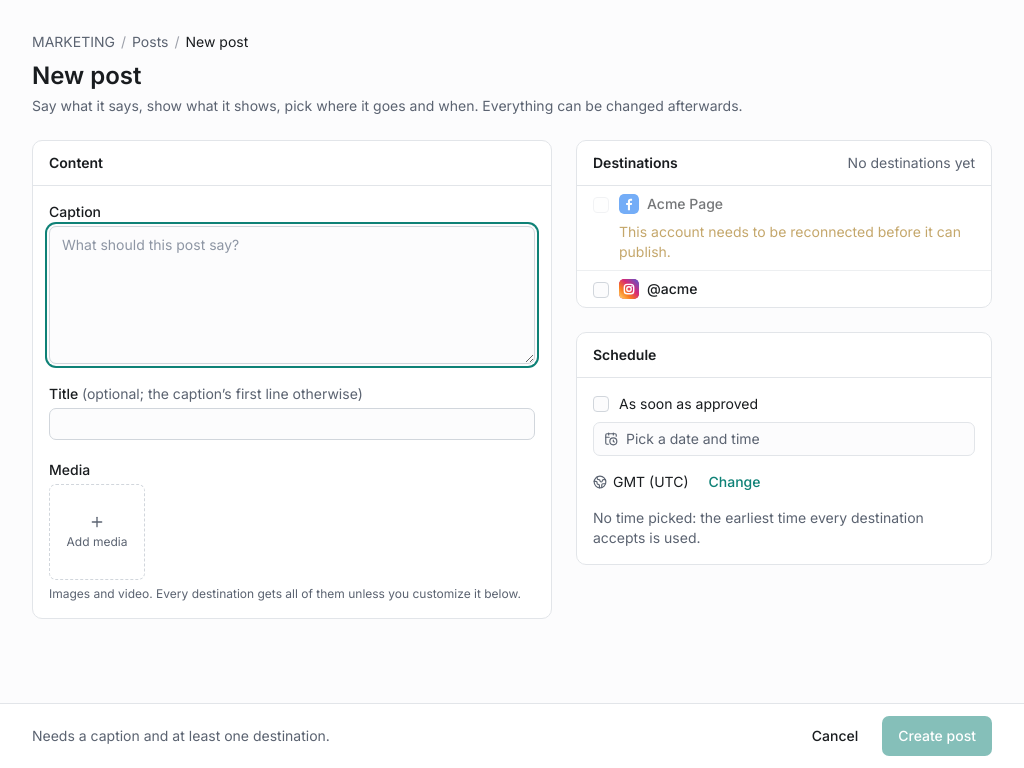
Test case: ComposePostPage › starting from a Creative › flags a destination the Creative has no size for
Click the button "Add media" at (97, 532), box x1=49 y1=484 x2=145 y2=580
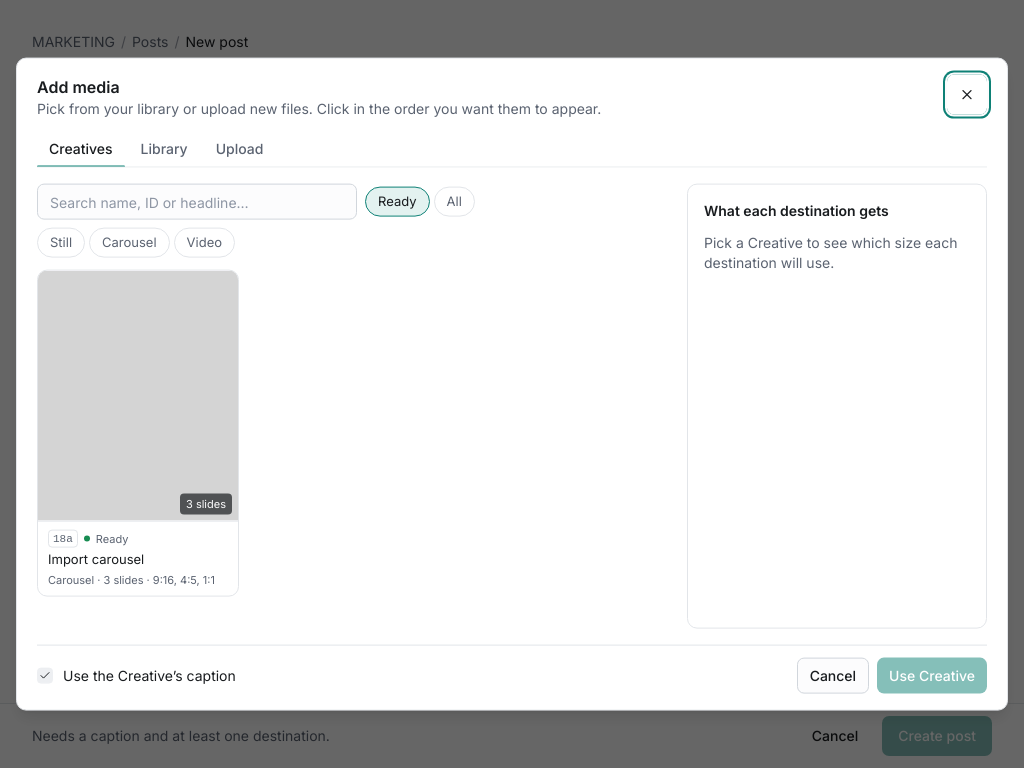
Click the button with aria-label "Choose Creative 18a" at (138, 433), box x1=37 y1=269 x2=239 y2=597
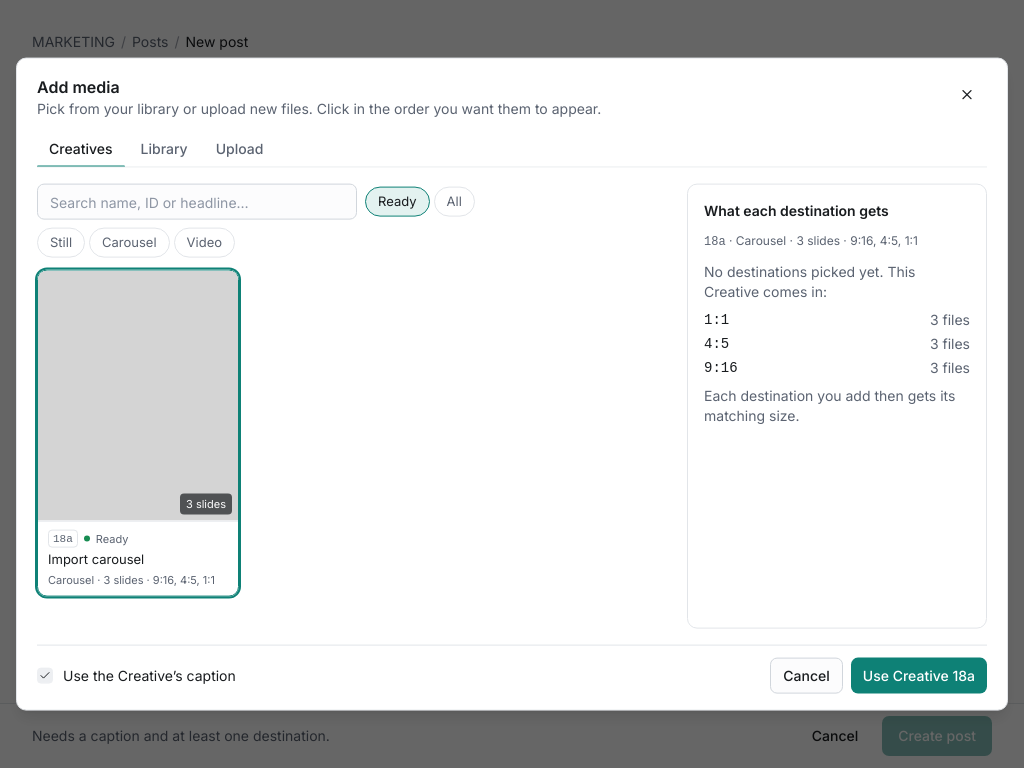
Click the button "Use Creative 18a" at (919, 675), box x1=851 y1=657 x2=987 y2=693
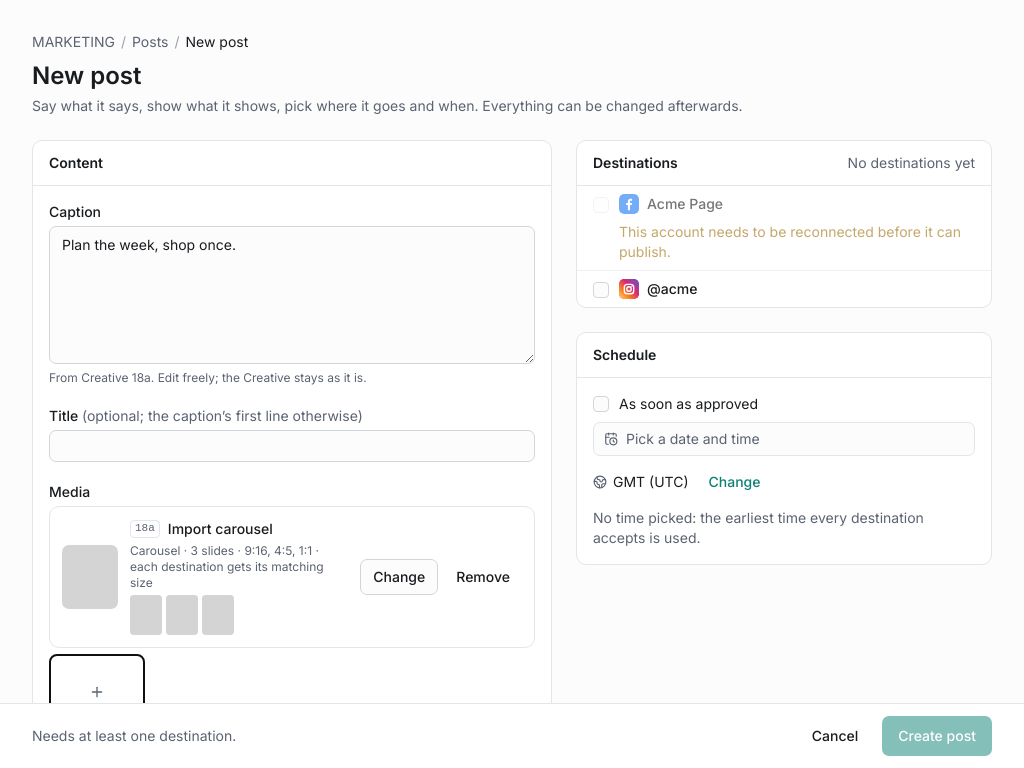
Click the checkbox labelled "@acme" at (601, 290), box x1=593 y1=282 x2=609 y2=298
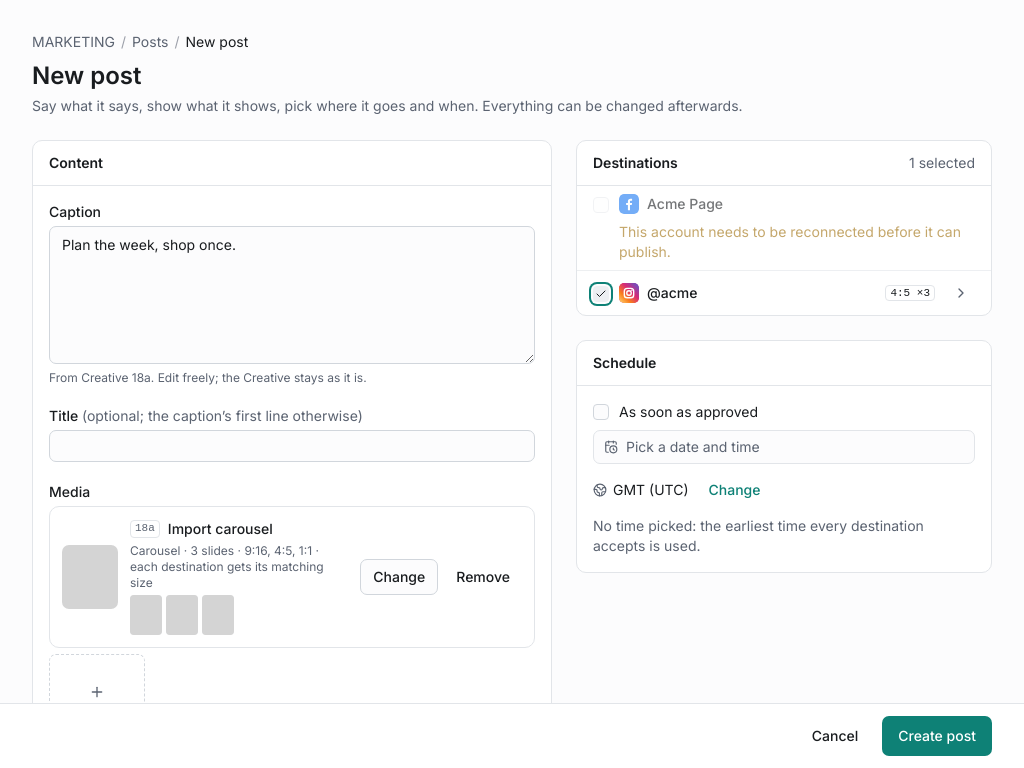
Click the button named "Show details" at (961, 293), box x1=947 y1=279 x2=975 y2=307
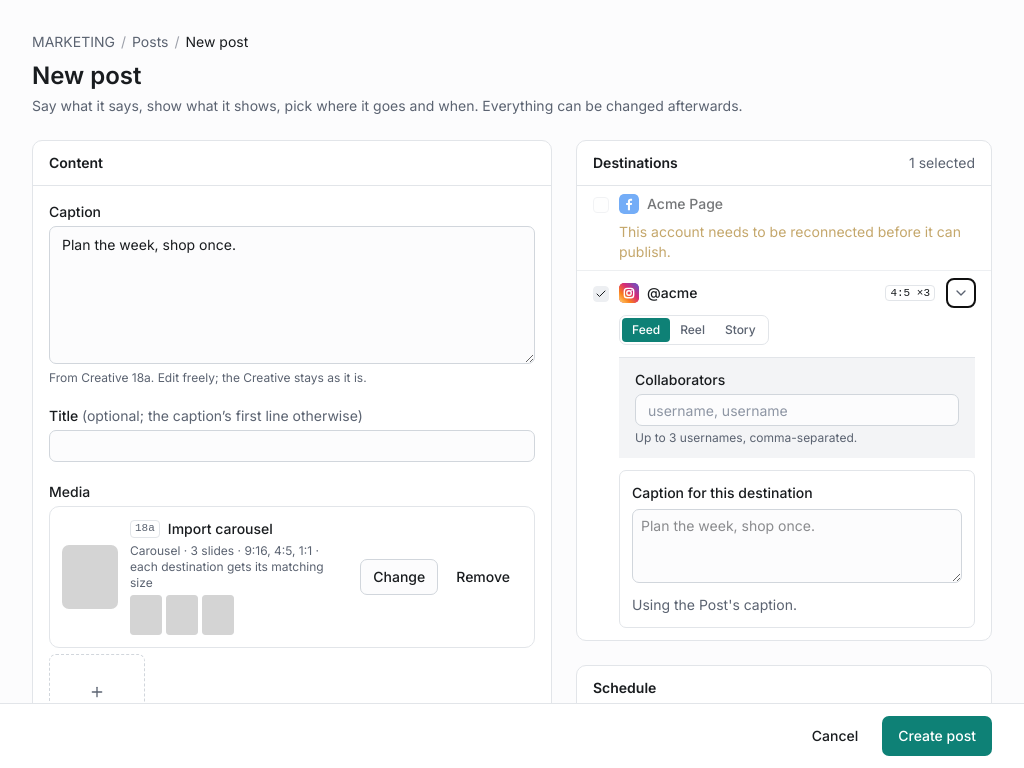
Click the radio button labelled "Reel" at (693, 330), box x1=670 y1=318 x2=715 y2=342
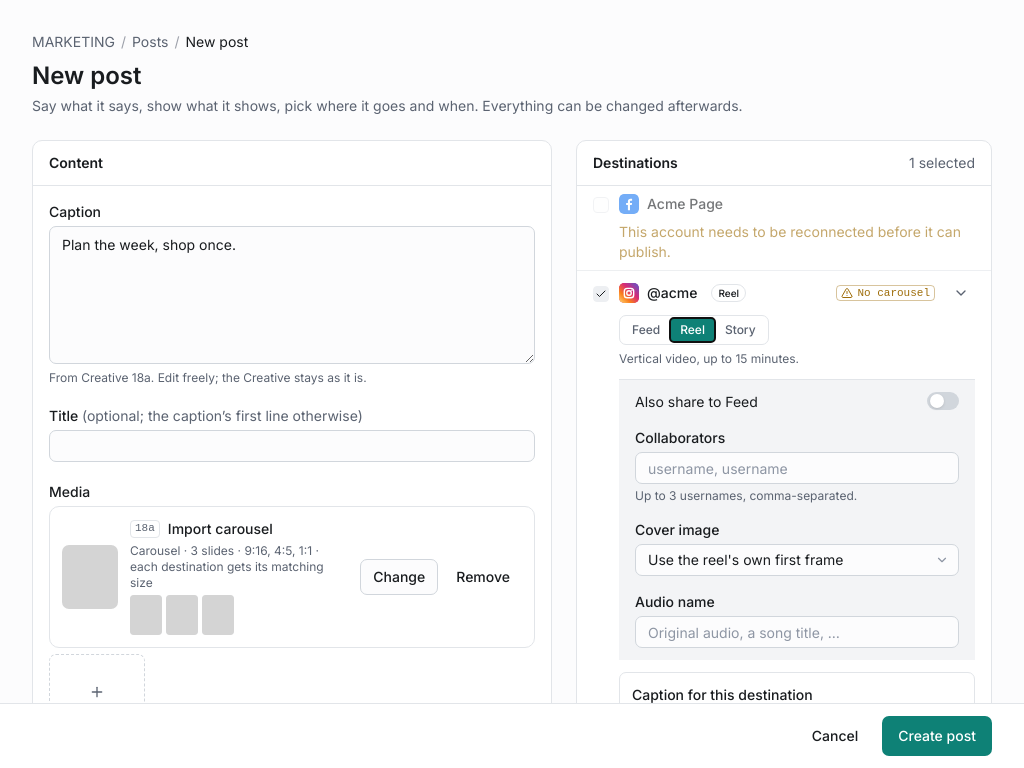
Check: the element with test id "creative-chip-instagram-c-ig" reads "No carousel", box x1=857 y1=287 x2=930 y2=299
